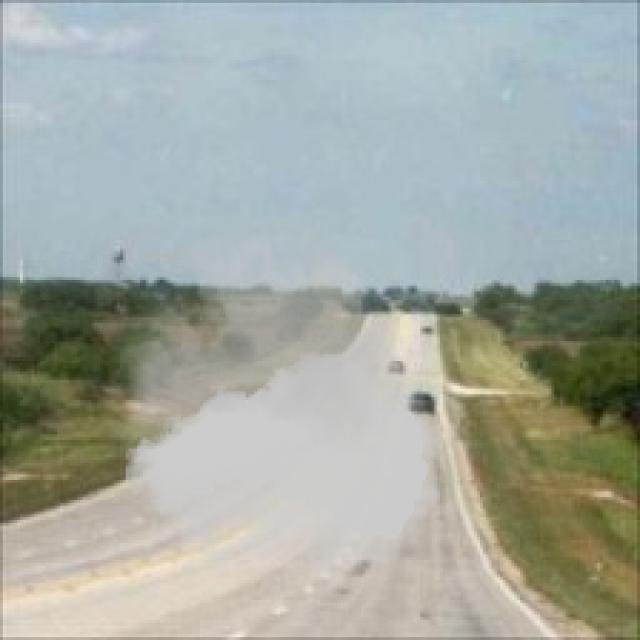smoke: (103, 214, 451, 603)
